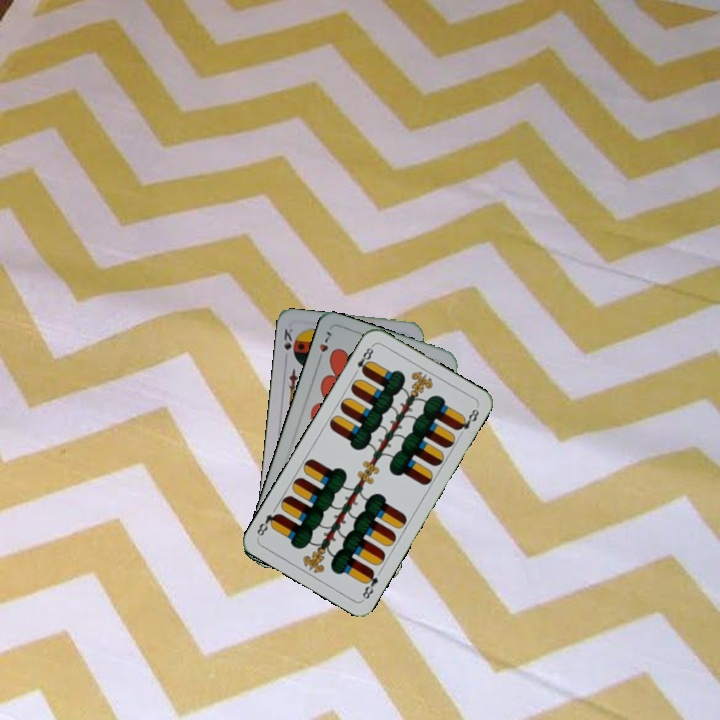E8: (350, 341, 376, 378), (358, 565, 381, 603)
H7: (314, 327, 335, 366)
SK: (280, 324, 298, 361)
